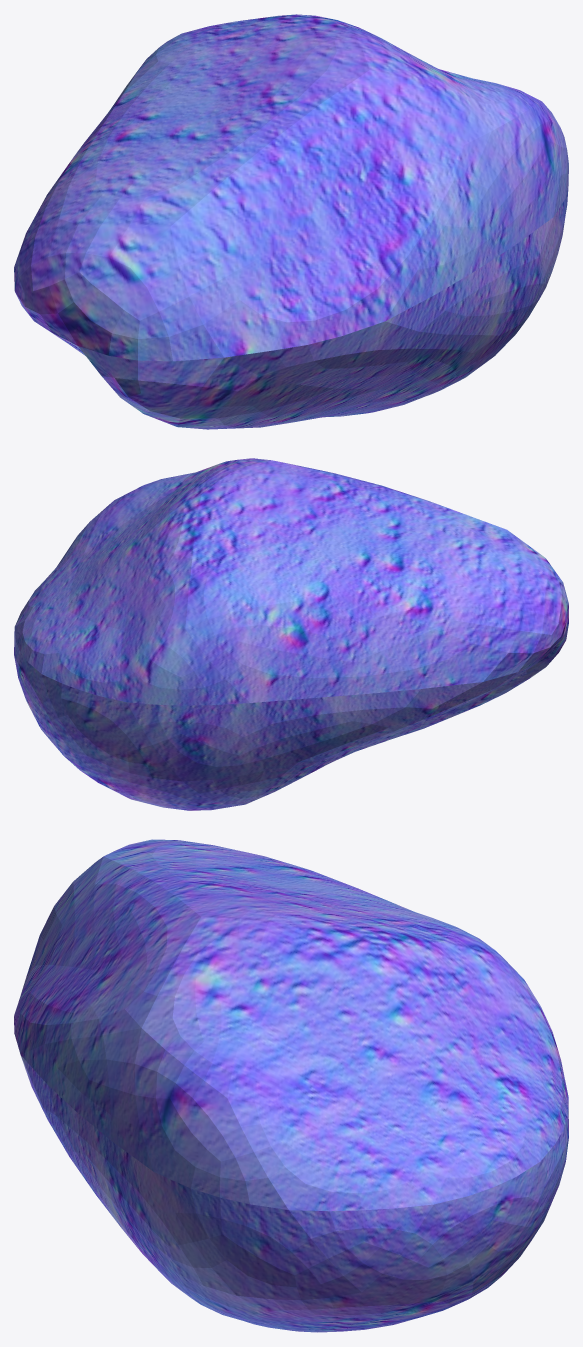
File: asteroid_LOD0.fbx
The picture shows the model from 3 angles, top to bottom: view 1: azimuth 30°, elevation 25°; view 2: azimuth 150°, elevation 25°; view 3: azimuth 270°, elevation 25°; orthographic projection. The views are drawn at different scales.
Visible parts, largest first — view 1: Icosphere; view 2: Icosphere; view 3: Icosphere.
Part boxes in pixels (x1,y1,x2,y2): Icosphere: [14, 14, 568, 429]; Icosphere: [14, 458, 568, 810]; Icosphere: [14, 839, 568, 1332].
Size of the model in its own units: 269 by 169 by 217.
Materials: 1 (1 with a texture image).
